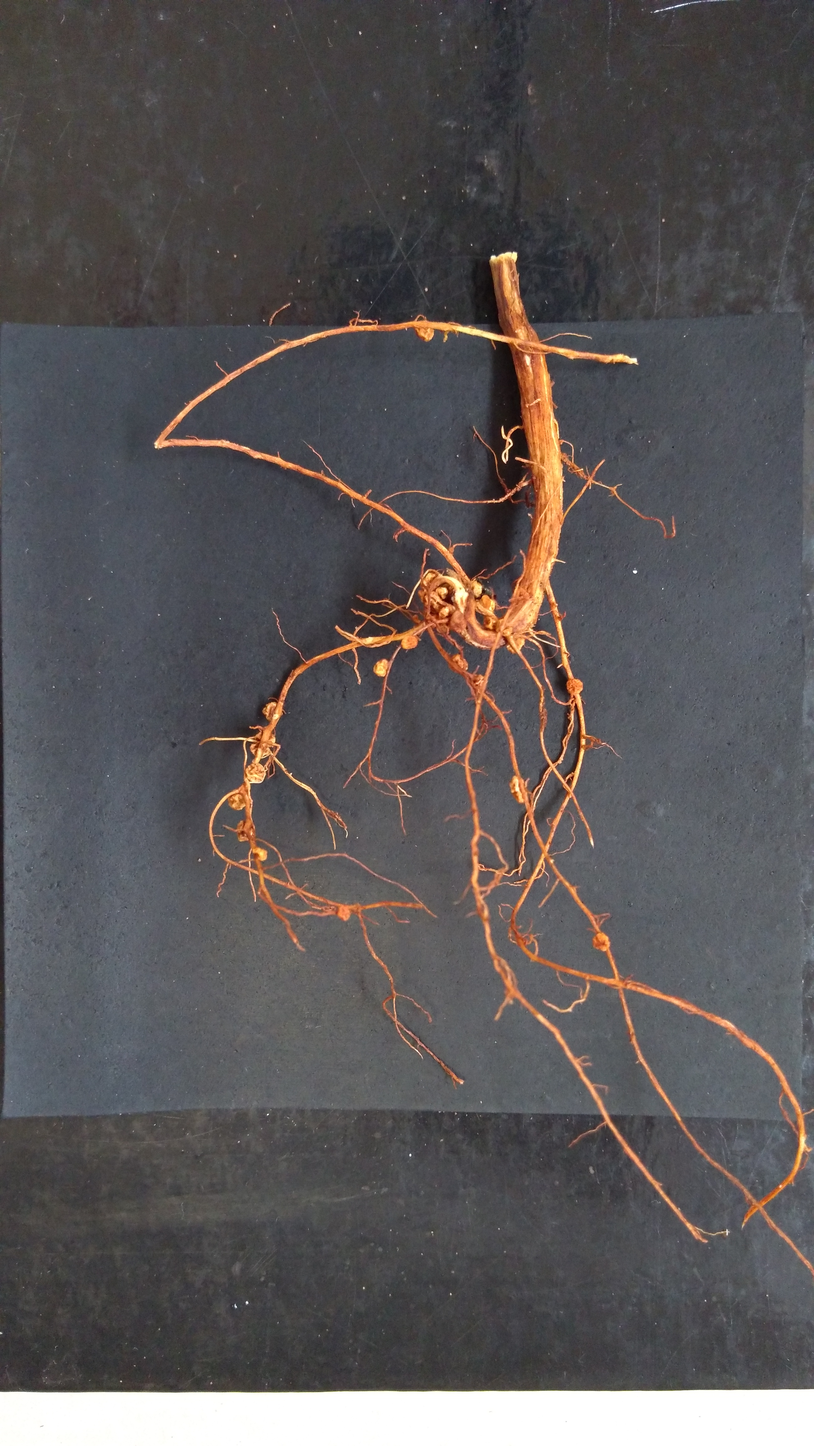nodule: (507, 773, 527, 806), (243, 762, 269, 786), (248, 741, 275, 762), (474, 593, 498, 615), (235, 819, 255, 845), (591, 931, 613, 953), (252, 728, 278, 746), (449, 608, 467, 634), (260, 701, 282, 722), (412, 325, 436, 344), (504, 634, 526, 654), (563, 677, 586, 696), (371, 657, 390, 679), (335, 902, 352, 925), (250, 845, 270, 864), (450, 652, 469, 671), (228, 793, 248, 811), (465, 578, 483, 598), (400, 634, 419, 652), (480, 613, 499, 630), (421, 571, 437, 587), (434, 586, 449, 600), (471, 673, 486, 687), (501, 625, 514, 638), (438, 606, 450, 620)
